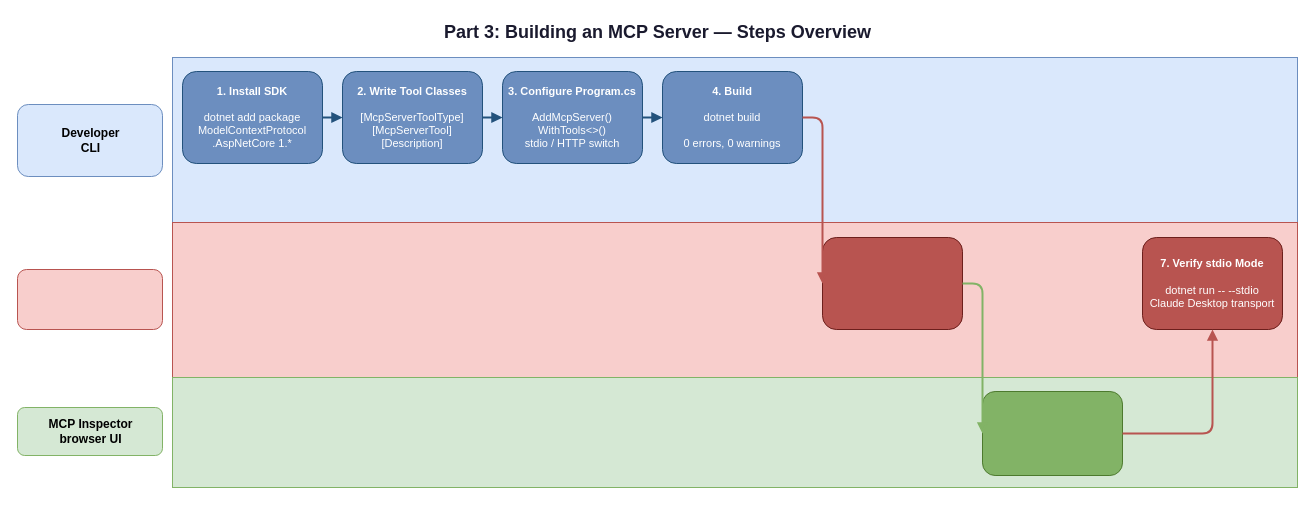
Some shapes in this 1315 by 505 pixel diagram are drawn without their labels. Here are the shapes that lost their labels. From the top down, the box of each, then its label:
(16, 268, 162, 330): MCP Server process
(822, 236, 962, 330): 5. Run HTTP Mode dotnet run → localhost:5100/mcp
(982, 390, 1122, 476): 6. Test with Inspector npx @modelcontextprotocol /inspector — call all 5 tools
